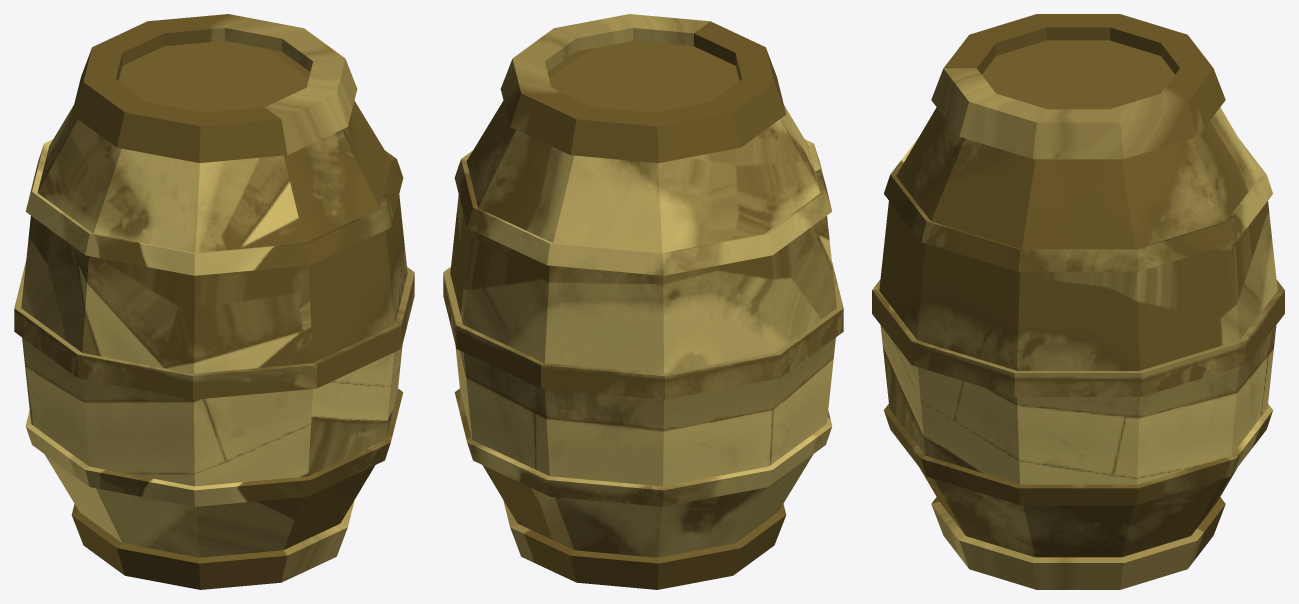
File: BARREL.fbx
The picture shows the model from 3 angles, left to right: view 1: azimuth 30°, elevation 25°; view 2: azimuth 150°, elevation 25°; view 3: azimuth 270°, elevation 25°; orthographic projection.
Visible parts, largest first — view 1: Wooden barrel; view 2: Wooden barrel; view 3: Wooden barrel.
Part boxes in pixels (x1,y1,x2,y2): Wooden barrel: [14, 14, 414, 589]; Wooden barrel: [443, 14, 843, 589]; Wooden barrel: [872, 14, 1284, 589].
Size of the model in its own units: 104 by 137 by 109.
